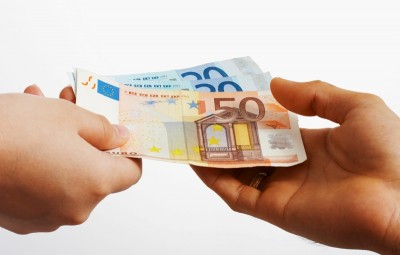billete: (69, 54, 309, 170)
